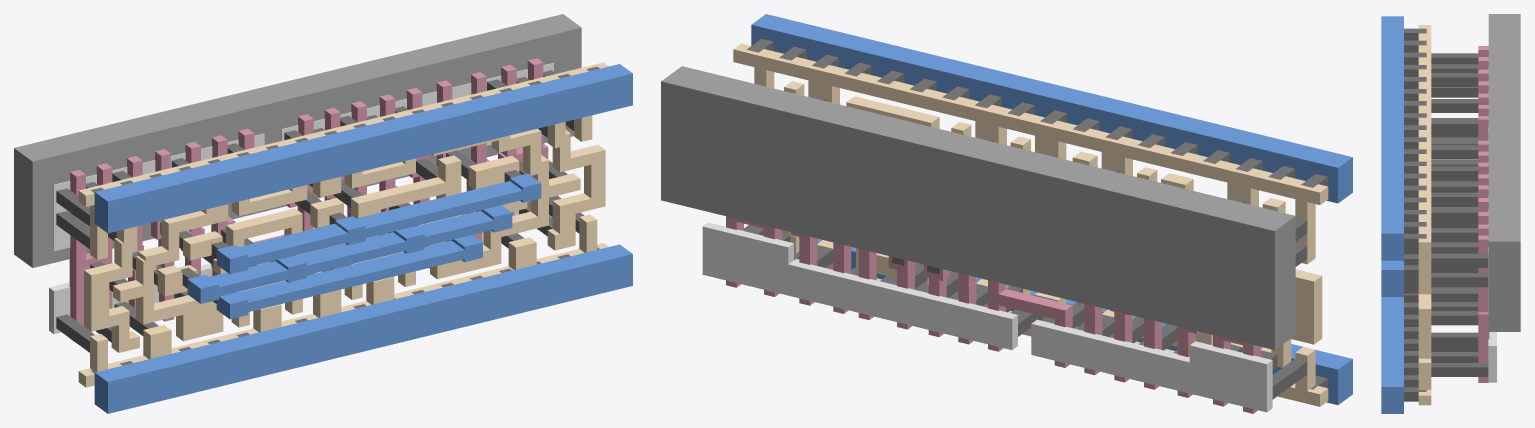
File: sky130_fd_sc_hd__fa_2.gds.gltf
3 views of the same model, side by side, from view 1: azimuth 30°, elevation 25°; view 2: azimuth 150°, elevation 25°; view 3: azimuth 270°, elevation 25° (orthographic). The views are drawn at different scales.
Visible parts, largest first — view 1: sky130_fd_sc_hd__fa_2_met1, sky130_fd_sc_hd__fa_2_li1, sky130_fd_sc_hd__fa_2_nwell, sky130_fd_sc_hd__fa_2_poly, sky130_fd_sc_hd__fa_2_licon, sky130_fd_sc_hd__fa_2_diff, sky130_fd_sc_hd__fa_2_mcon; view 2: sky130_fd_sc_hd__fa_2_nwell, sky130_fd_sc_hd__fa_2_diff, sky130_fd_sc_hd__fa_2_li1, sky130_fd_sc_hd__fa_2_met1, sky130_fd_sc_hd__fa_2_poly, sky130_fd_sc_hd__fa_2_mcon, sky130_fd_sc_hd__fa_2_licon; view 3: sky130_fd_sc_hd__fa_2_licon, sky130_fd_sc_hd__fa_2_nwell, sky130_fd_sc_hd__fa_2_met1, sky130_fd_sc_hd__fa_2_mcon, sky130_fd_sc_hd__fa_2_li1, sky130_fd_sc_hd__fa_2_poly, sky130_fd_sc_hd__fa_2_diff.
Part boxes in pixels (x1=…): sky130_fd_sc_hd__fa_2_met1: x1=94, y1=64, x2=632, y2=413; sky130_fd_sc_hd__fa_2_li1: x1=78, y1=62, x2=608, y2=387; sky130_fd_sc_hd__fa_2_nwell: x1=14, y1=14, x2=581, y2=267; sky130_fd_sc_hd__fa_2_poly: x1=69, y1=58, x2=548, y2=342; sky130_fd_sc_hd__fa_2_licon: x1=56, y1=70, x2=584, y2=352; sky130_fd_sc_hd__fa_2_diff: x1=49, y1=63, x2=558, y2=334; sky130_fd_sc_hd__fa_2_mcon: x1=90, y1=66, x2=599, y2=373; sky130_fd_sc_hd__fa_2_nwell: x1=661, y1=66, x2=1295, y2=349; sky130_fd_sc_hd__fa_2_diff: x1=702, y1=222, x2=1272, y2=412; sky130_fd_sc_hd__fa_2_li1: x1=733, y1=43, x2=1328, y2=406; sky130_fd_sc_hd__fa_2_met1: x1=751, y1=14, x2=1352, y2=404; sky130_fd_sc_hd__fa_2_poly: x1=726, y1=216, x2=1260, y2=413; sky130_fd_sc_hd__fa_2_mcon: x1=747, y1=38, x2=1327, y2=389; sky130_fd_sc_hd__fa_2_licon: x1=744, y1=96, x2=1307, y2=399; sky130_fd_sc_hd__fa_2_licon: x1=1431, y1=53, x2=1488, y2=376; sky130_fd_sc_hd__fa_2_nwell: x1=1488, y1=14, x2=1520, y2=331; sky130_fd_sc_hd__fa_2_met1: x1=1381, y1=16, x2=1403, y2=413; sky130_fd_sc_hd__fa_2_mcon: x1=1404, y1=28, x2=1426, y2=401; sky130_fd_sc_hd__fa_2_li1: x1=1418, y1=25, x2=1431, y2=405; sky130_fd_sc_hd__fa_2_poly: x1=1478, y1=46, x2=1489, y2=382; sky130_fd_sc_hd__fa_2_diff: x1=1488, y1=68, x2=1496, y2=382.
Bounding box in the file's own units: 8.66 × 3.2 × 2.24.
